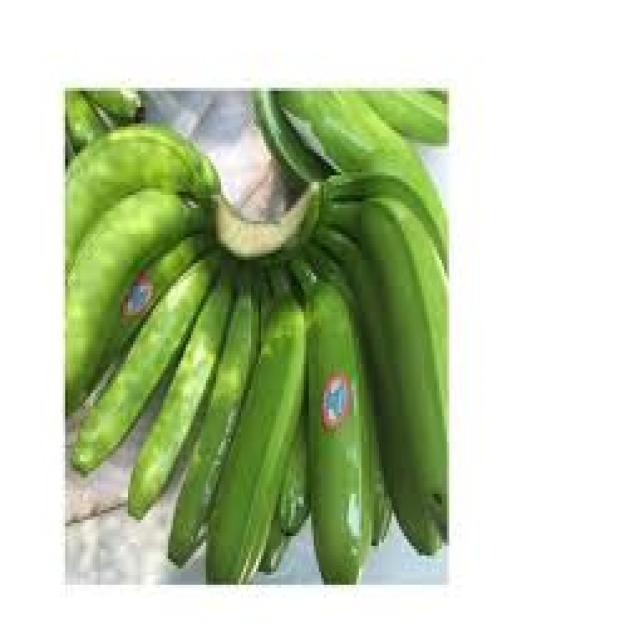Banana: (62, 85, 450, 584)
